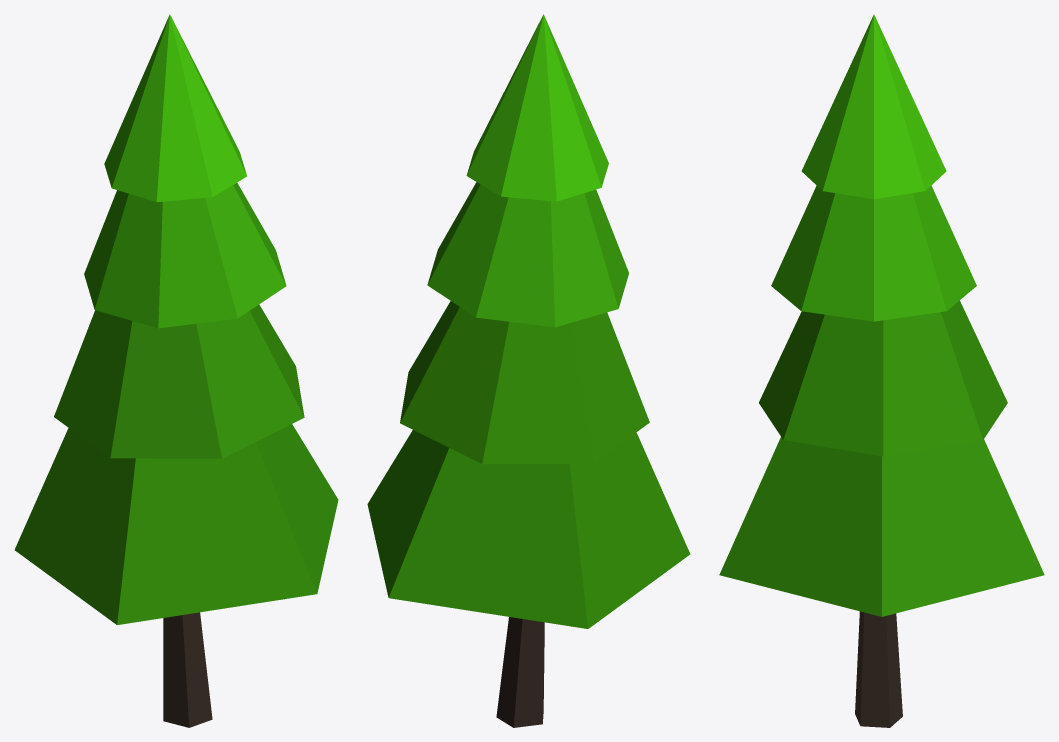
Rendered from treeSet_pine1.dae.
3 renders of one model, left to right at view 1: azimuth 30°, elevation 25°; view 2: azimuth 150°, elevation 25°; view 3: azimuth 270°, elevation 25°, orthographic. The views are drawn at different scales.
Parts seen in each view (by area): view 1: leaves (×4), bark; view 2: leaves (×4), bark; view 3: leaves (×4), bark.
Part boxes in pixels (<box>): leaves (×4): <box>14,14,338,624</box>; bark: <box>163,612,212,727</box>; leaves (×4): <box>367,14,690,628</box>; bark: <box>496,617,544,727</box>; leaves (×4): <box>719,14,1044,616</box>; bark: <box>855,611,902,727</box>.
Bounding box in the file's own units: 474 × 1178 × 500.
1 material, 1 textured.
